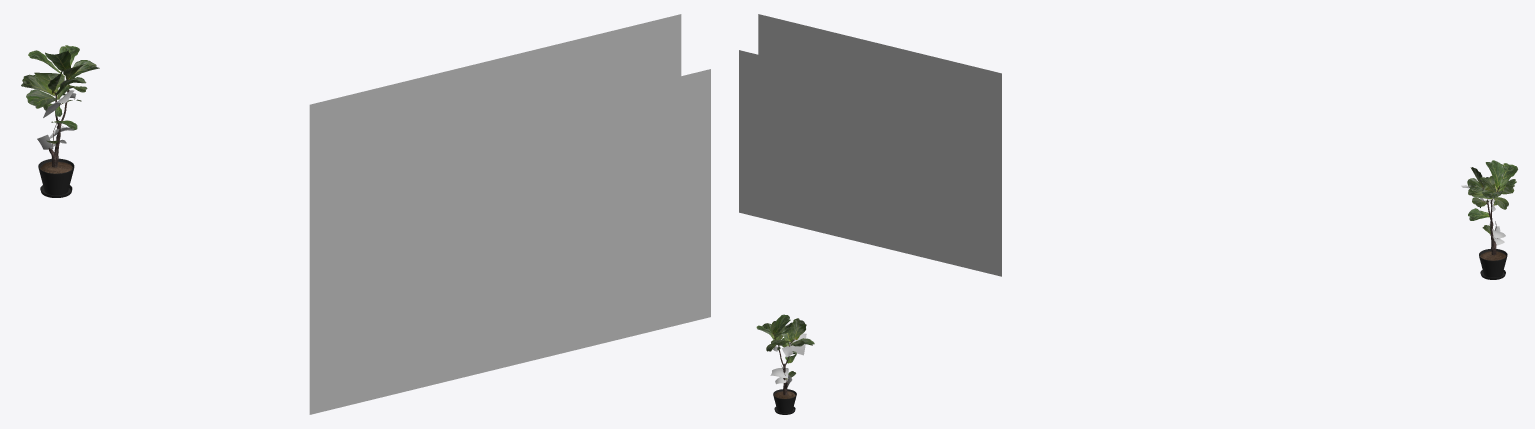
Rendered from pla n wall.fbx.
3 views of the same model, side by side, from view 1: azimuth 30°, elevation 25°; view 2: azimuth 150°, elevation 25°; view 3: azimuth 270°, elevation 25° (orthographic). The views are drawn at different scales.
Parts seen in each view (by area): view 1: back_wall, plant_1, vase; view 2: back_wall, plant_1, vase; view 3: plant_1, vase.
Part boxes in pixels (x1,y1,x2,y2): back_wall: [309, 14, 710, 414]; plant_1: [21, 45, 99, 167]; vase: [38, 158, 74, 195]; back_wall: [739, 14, 1001, 276]; plant_1: [756, 314, 814, 395]; vase: [773, 389, 796, 412]; plant_1: [1461, 160, 1518, 255]; vase: [1479, 249, 1507, 277].
Bounding box in the file's own units: 418 × 305 × 551.
